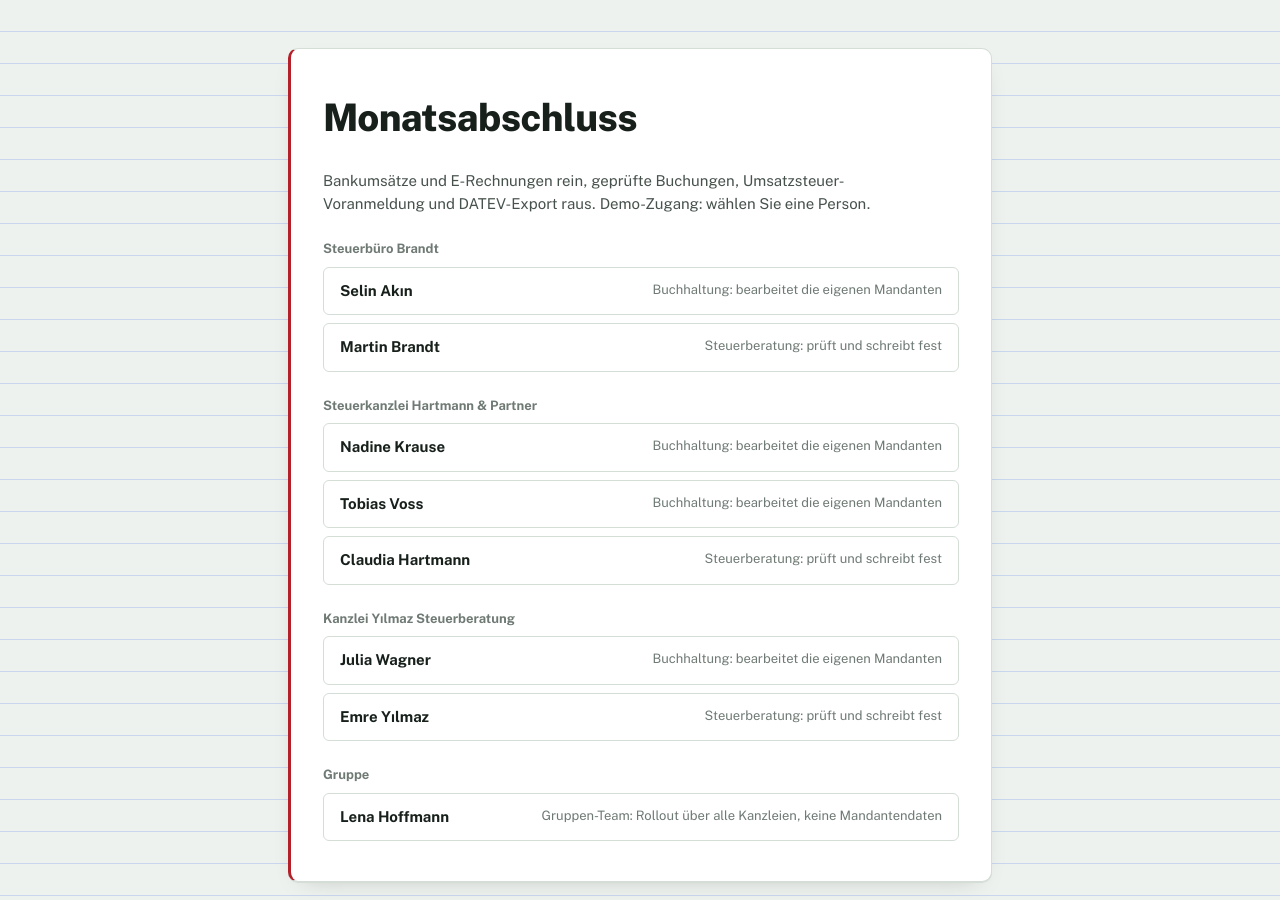
Scenario: signing in › an advisor lands on the board of her firm
Click the button "Claudia Hartmann Steuerberatung: prüft und schreibt fest" at [405, 560], box [323,536,959,584]
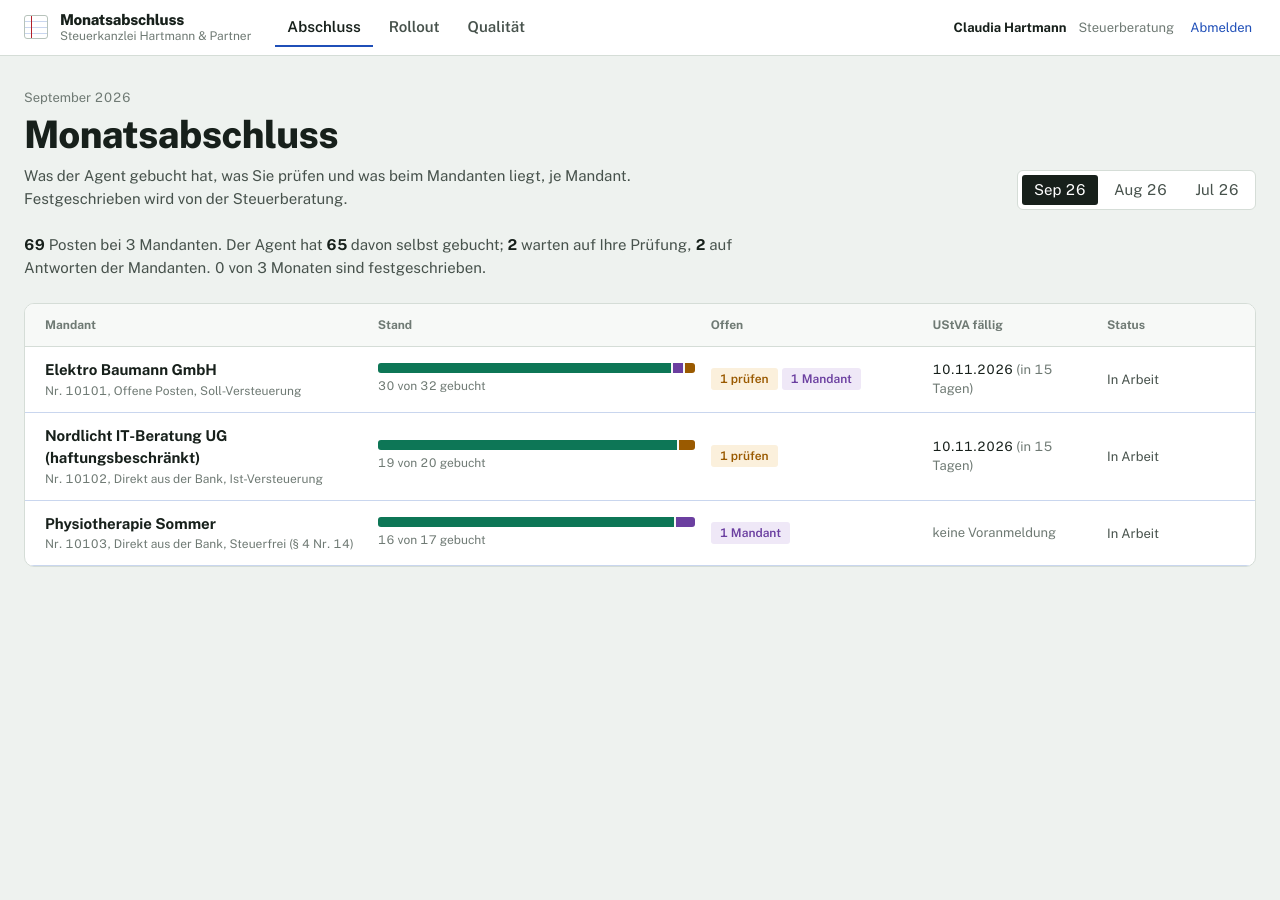
Expected: the link with aria-label "Elektro Baumann GmbH öffnen" is shown, [25,347,1255,413]
